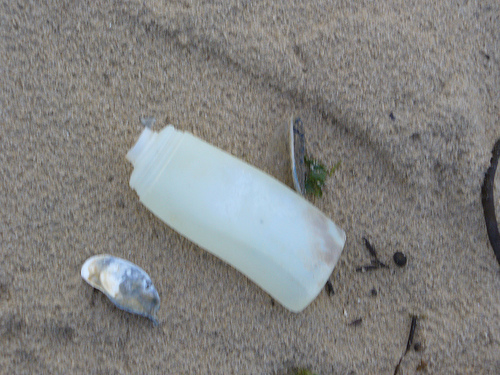litter: (125, 123, 348, 313), (79, 255, 161, 323)
